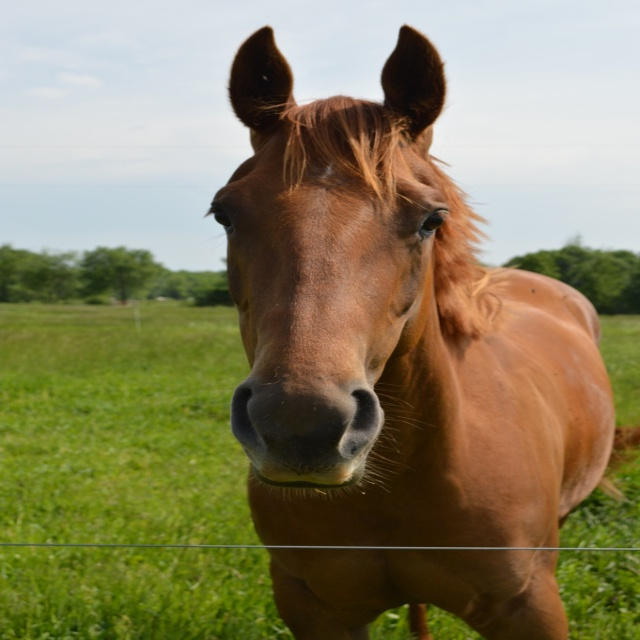Horse: (201, 23, 639, 640)
